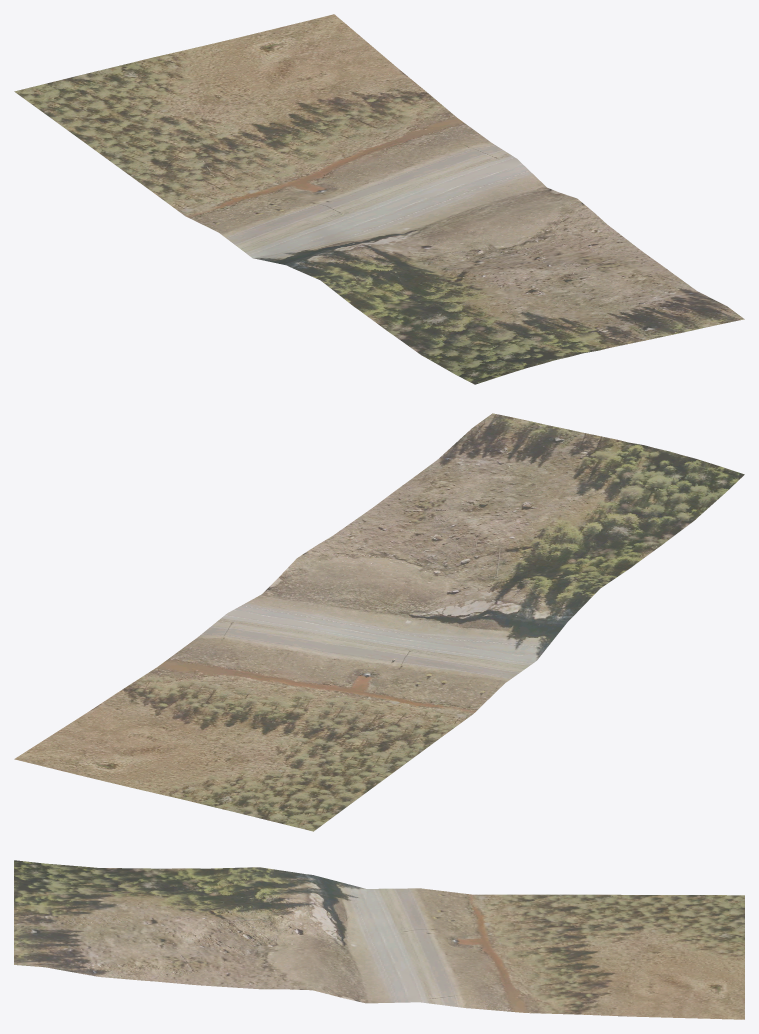
The model's file is CM_Terrain_24493940_6814674.fbx.
3 views of the same model, one above another, from view 1: azimuth 30°, elevation 25°; view 2: azimuth 150°, elevation 25°; view 3: azimuth 270°, elevation 25° (orthographic). The views are drawn at different scales.
Parts seen in each view (by area): view 1: CM_Terrain_24493940_6814674_LOD0; view 2: CM_Terrain_24493940_6814674_LOD0; view 3: CM_Terrain_24493940_6814674_LOD0.
Part boxes in pixels (left/top/right/bottom): CM_Terrain_24493940_6814674_LOD0: left=14, top=14, right=744, bottom=384; CM_Terrain_24493940_6814674_LOD0: left=14, top=413, right=744, bottom=831; CM_Terrain_24493940_6814674_LOD0: left=14, top=860, right=744, bottom=1019.
Size of what is drawn, in the model's own units: 82.16 by 12.33 by 205.
